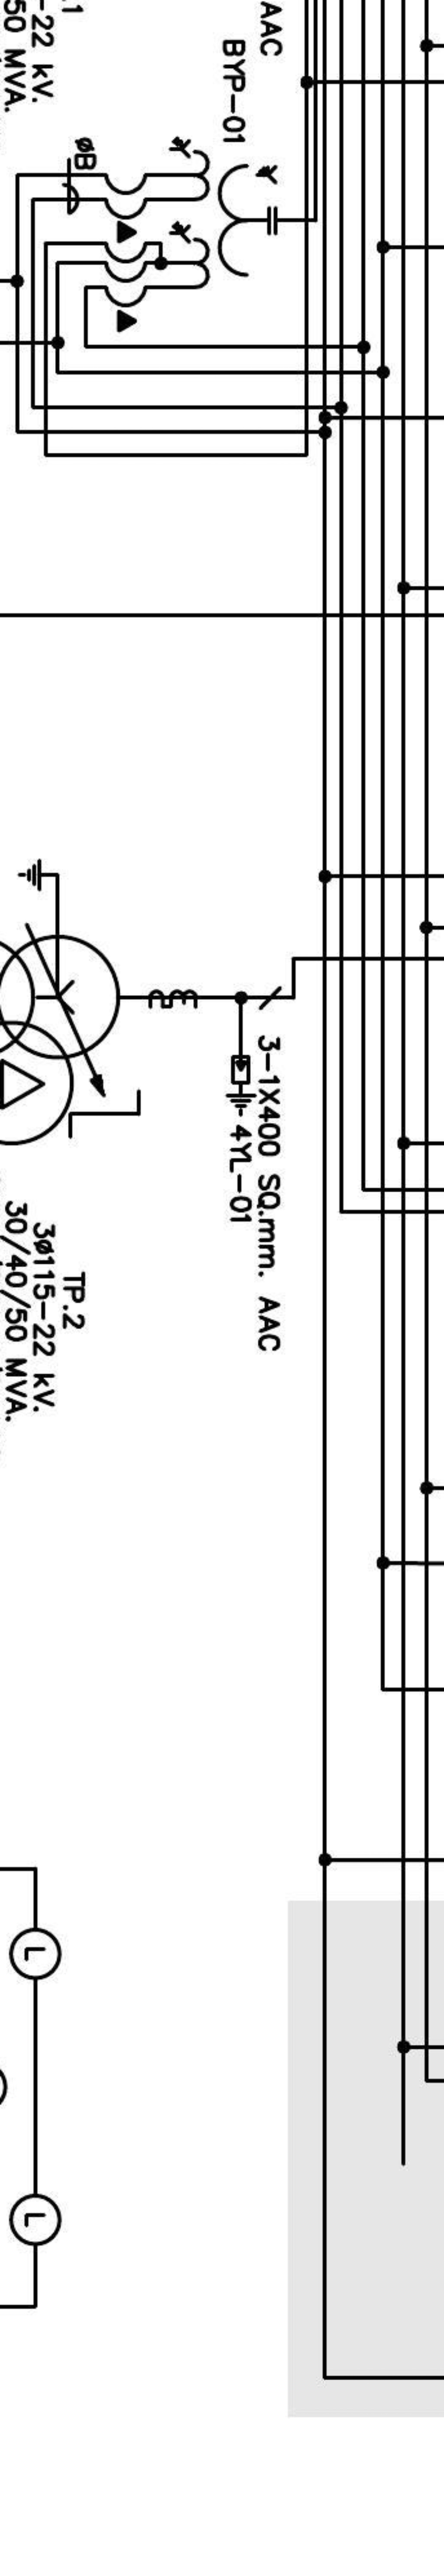115_cvt_3p: (168, 135, 278, 291)
115_la: (224, 1055, 258, 1117)
